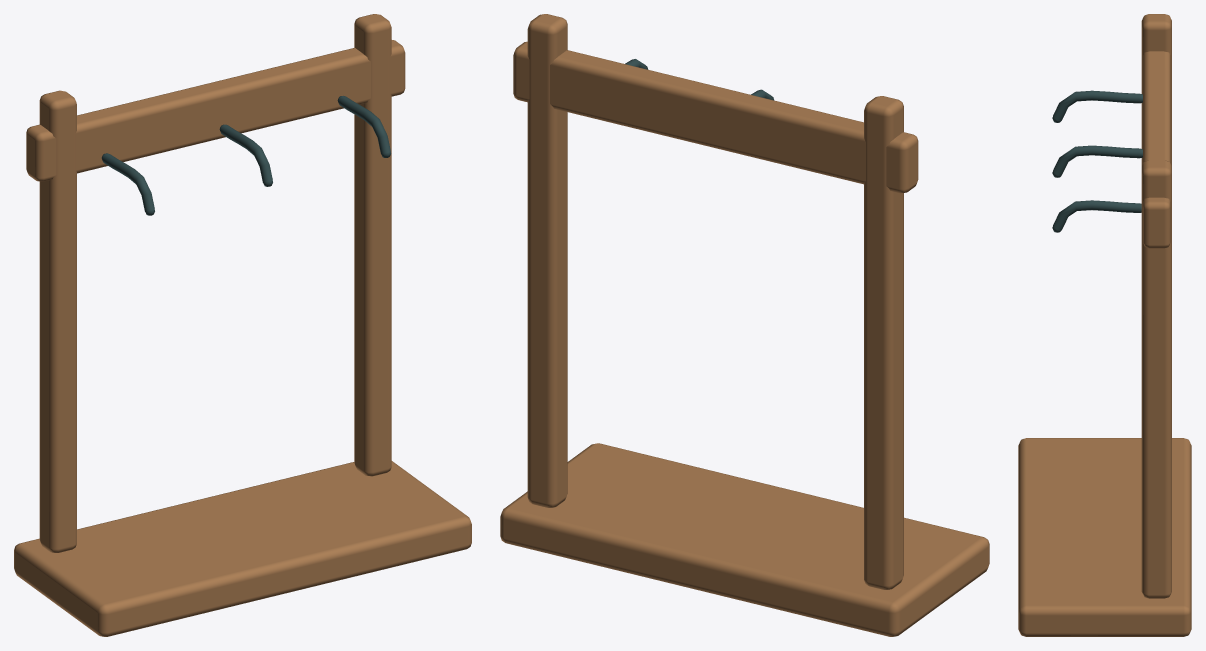
File: almanac-gardens-tool-stand-08e1117c__22027.glb
The picture shows the model from 3 angles, left to right: view 1: azimuth 30°, elevation 25°; view 2: azimuth 150°, elevation 25°; view 3: azimuth 270°, elevation 25°; orthographic projection. The views are drawn at different scales.
Parts seen in each view (by area): view 1: tool-stand-oak, tool-stand-iron; view 2: tool-stand-oak; view 3: tool-stand-oak, tool-stand-iron.
Boxes of the visible parts, x1,y1,x2,y2 form: tool-stand-oak: (14,14,471,636); tool-stand-iron: (101,96,391,215); tool-stand-oak: (500,14,989,636); tool-stand-oak: (1018,14,1191,636); tool-stand-iron: (1052,90,1142,232).
Bounding box in the file's own units: 0.95 × 1.18 × 0.4001.
